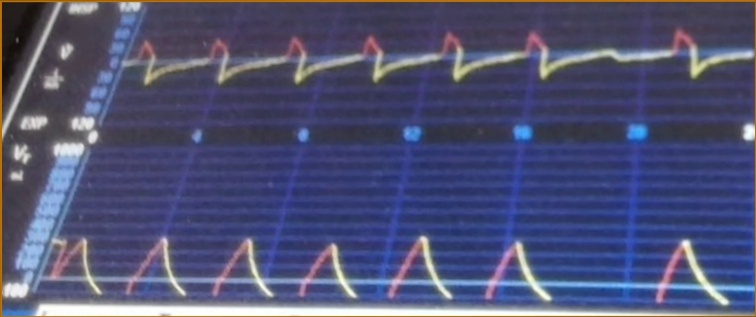Ineffective_effort Flow: (128, 19, 751, 116)
Ineffective_effort Volume: (50, 218, 729, 305)
